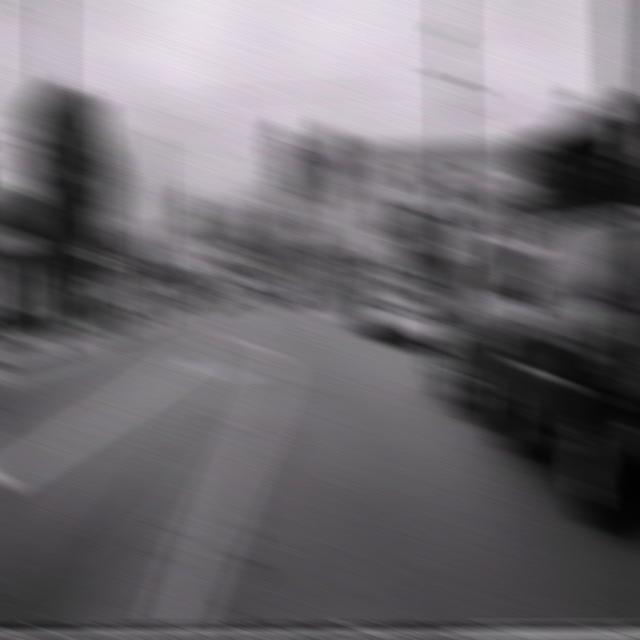pedestrianCrossing: (419, 176, 455, 222)
